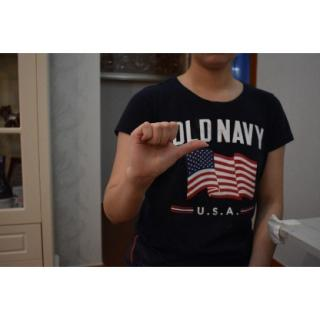DAD: (125, 117, 212, 188)
